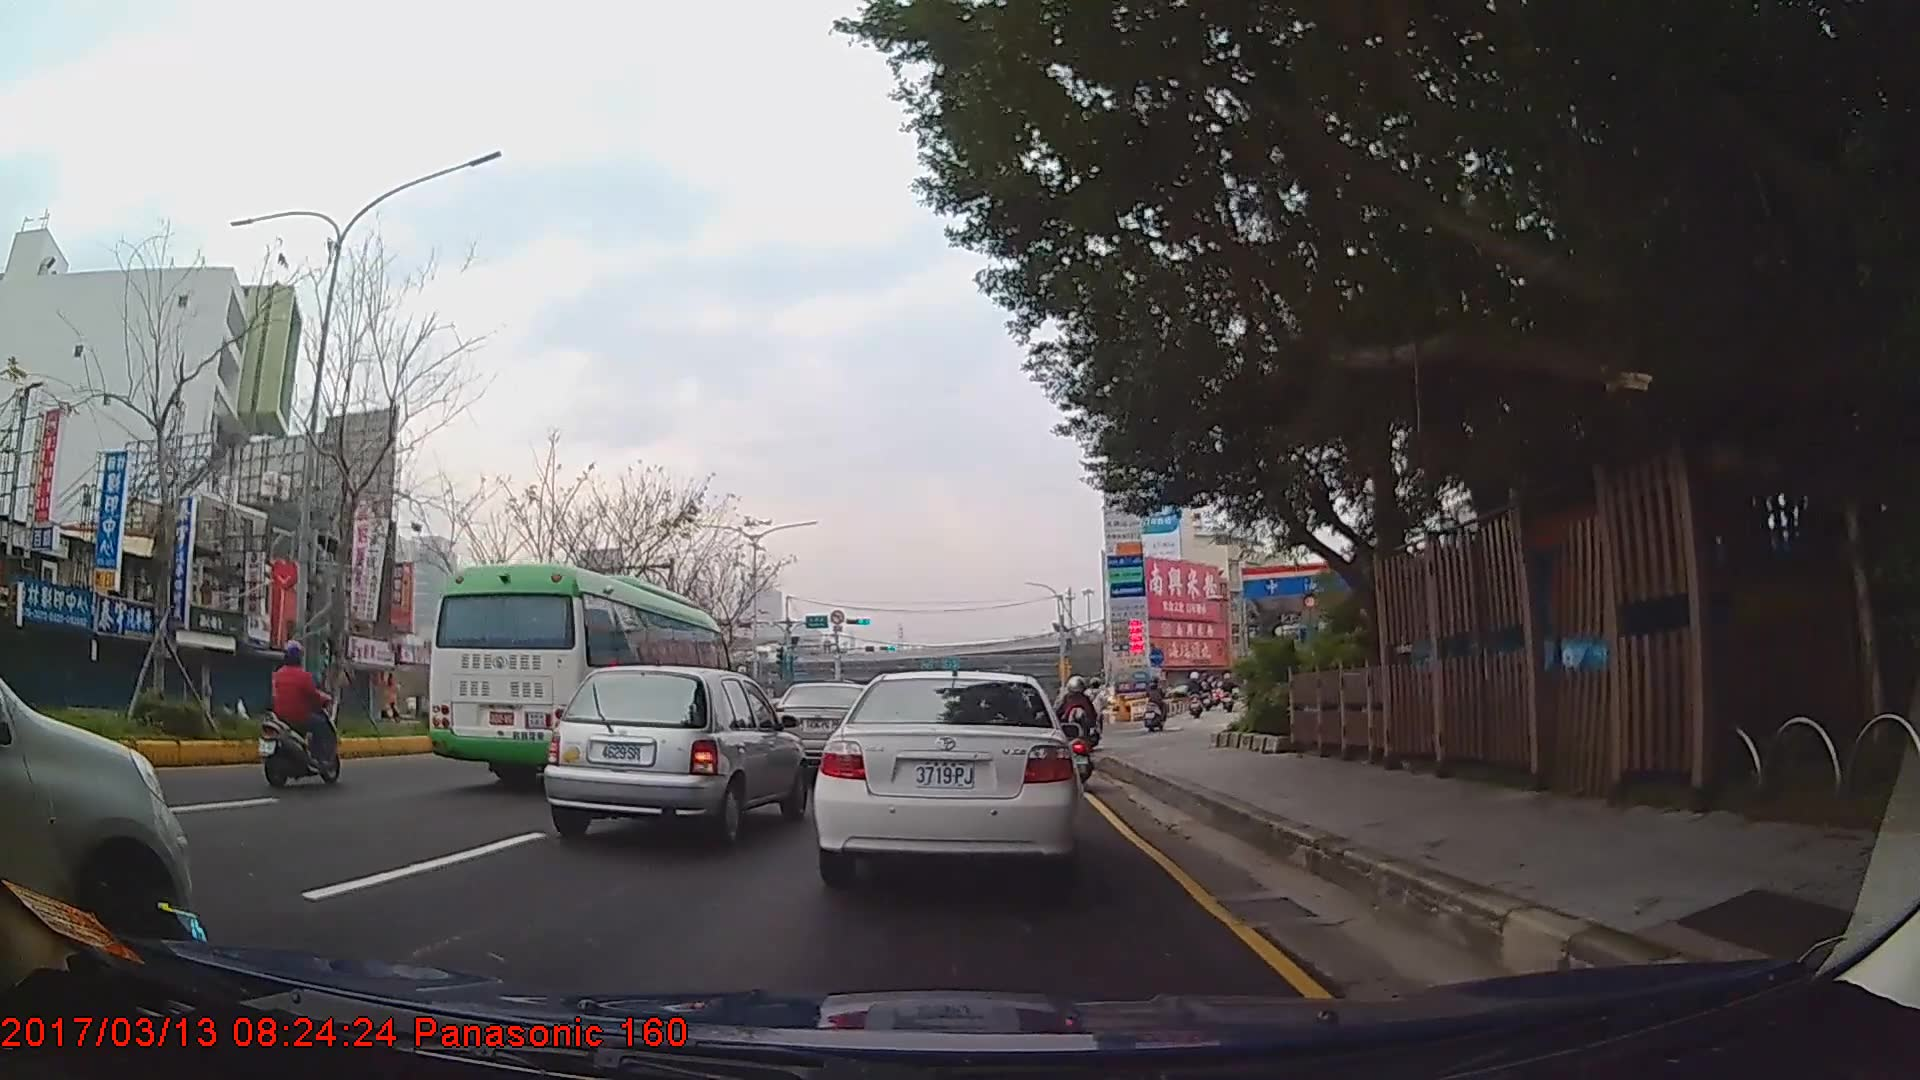rider: (253, 636, 340, 793), (1061, 673, 1103, 786), (1081, 675, 1109, 751), (1145, 675, 1167, 730), (1184, 670, 1204, 719)
vehicle: (420, 557, 737, 793), (812, 665, 1084, 883), (544, 661, 806, 852), (769, 681, 886, 776)
